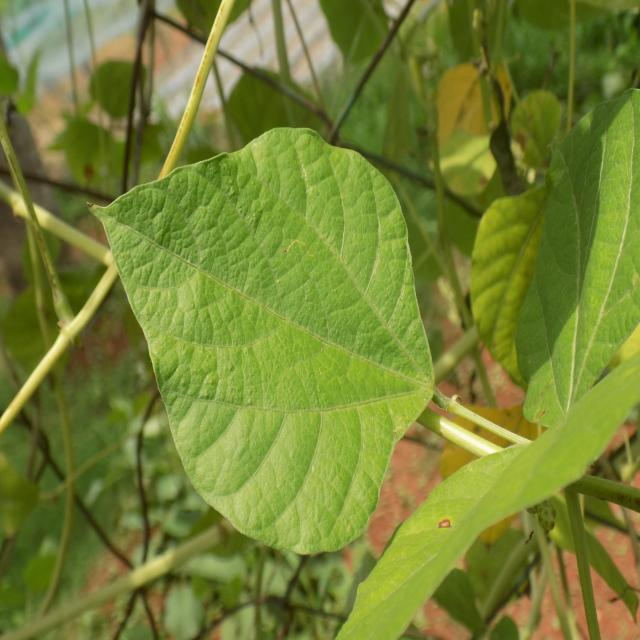Dolicos bean_cercospora leaf spot: (81, 128, 430, 551)
